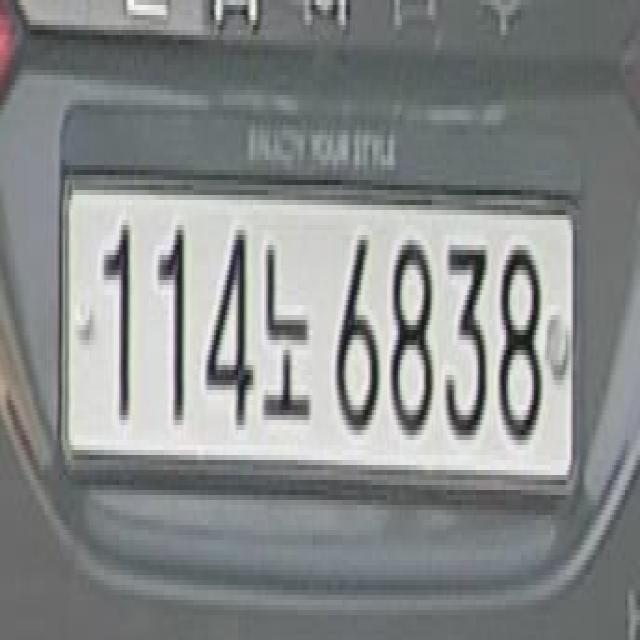illegal_plate: (63, 159, 575, 519)
